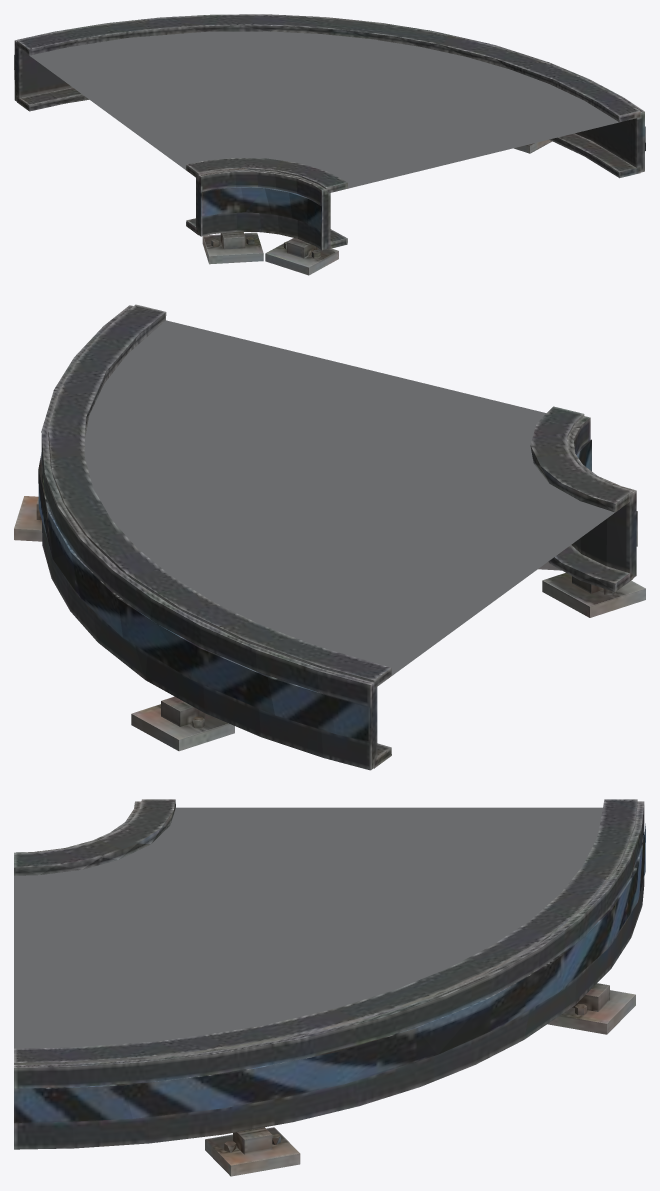
Rendered from esteira_curva_esq_expressa.glb.
3 renders of one model, top to bottom at view 1: azimuth 30°, elevation 25°; view 2: azimuth 150°, elevation 25°; view 3: azimuth 270°, elevation 25°, orthographic. The views are drawn at different scales.
Visible parts, largest first — view 1: esteira_curva_esq_expressa_corpo; view 2: esteira_curva_esq_expressa_corpo; view 3: esteira_curva_esq_expressa_corpo.
Part boxes in pixels (box(x1,y1,x2,y2)): esteira_curva_esq_expressa_corpo: box(14, 14, 645, 275); esteira_curva_esq_expressa_corpo: box(14, 304, 645, 770); esteira_curva_esq_expressa_corpo: box(14, 799, 645, 1176).
Size of the model in its own units: 0.841 by 0.168 by 0.841.
Materials: 2 (1 with a texture image).
